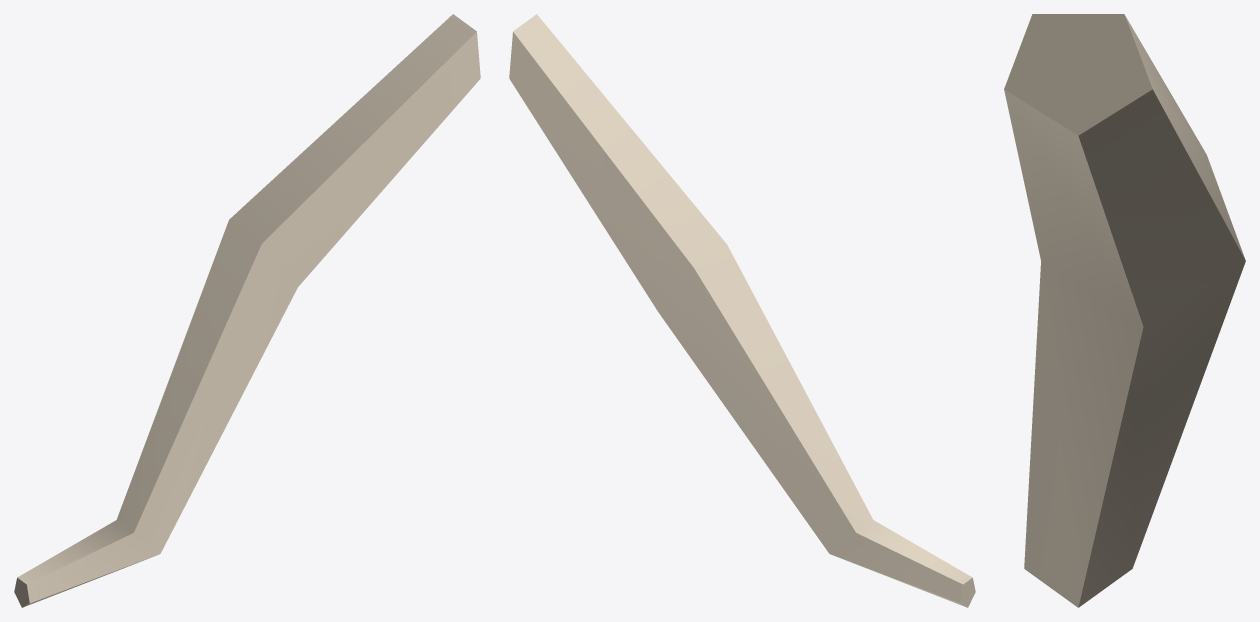
The model's file is Pata1.fbx.
3 views of the same model, side by side, from view 1: azimuth 30°, elevation 25°; view 2: azimuth 150°, elevation 25°; view 3: azimuth 270°, elevation 25° (orthographic). The views are drawn at different scales.
Visible parts, largest first — view 1: Pata1; view 2: Pata1; view 3: Pata1.
Part boxes in pixels (x1,y1,x2,y2): Pata1: (14,14,480,607); Pata1: (509,14,975,607); Pata1: (1004,14,1245,607).
Size of the model in its own units: 8.7 by 8.95 by 2.13.
